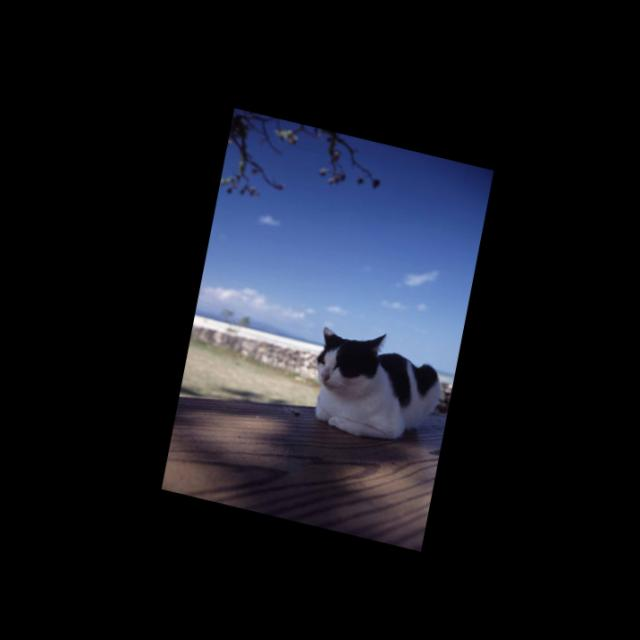animals: (311, 317, 385, 389)
